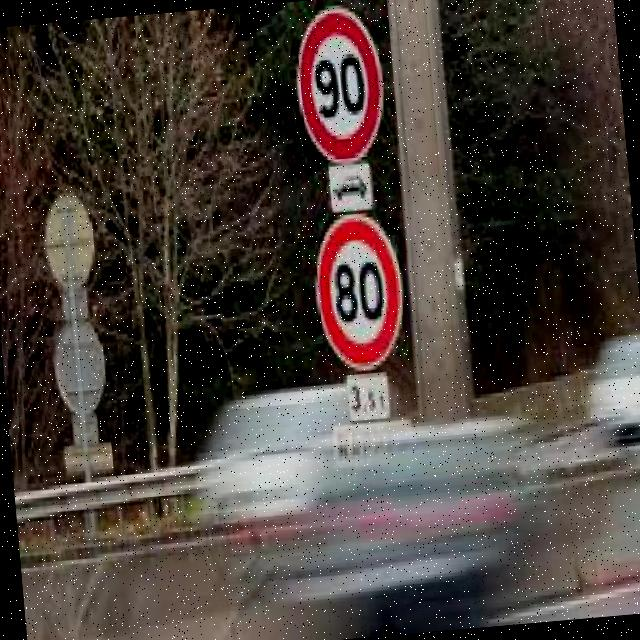Ograniczenie predkosci do 90: (292, 6, 386, 162)
